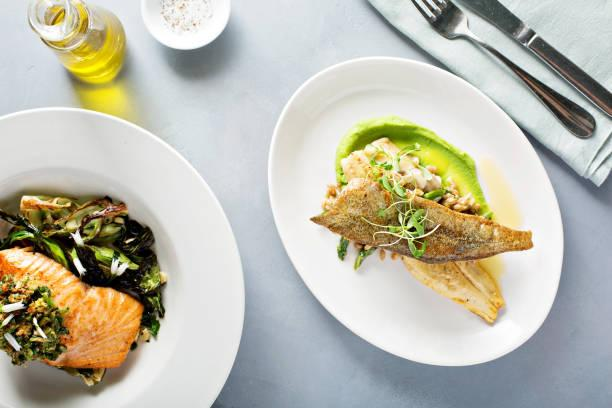Braised Crucian Carp: (269, 55, 560, 367), (0, 107, 244, 408)
